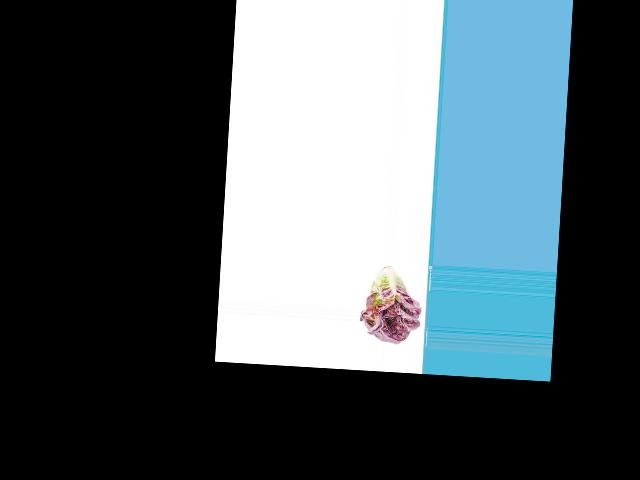lettuce: (360, 264, 424, 344)
